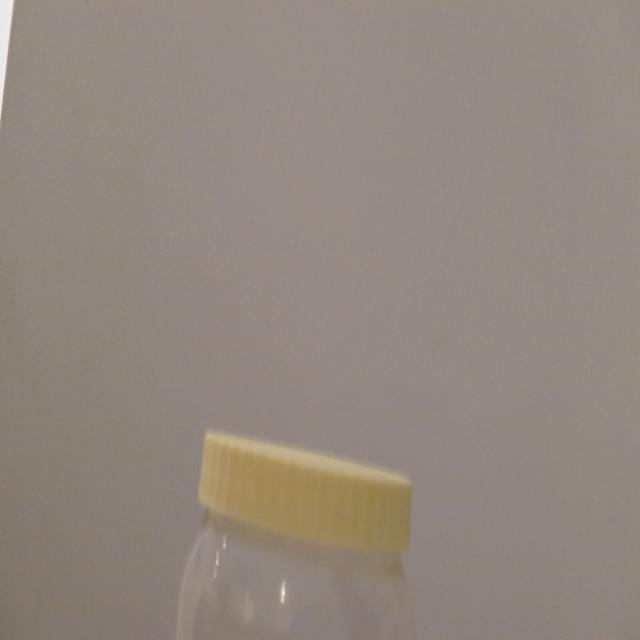cap: (172, 412, 449, 576)
